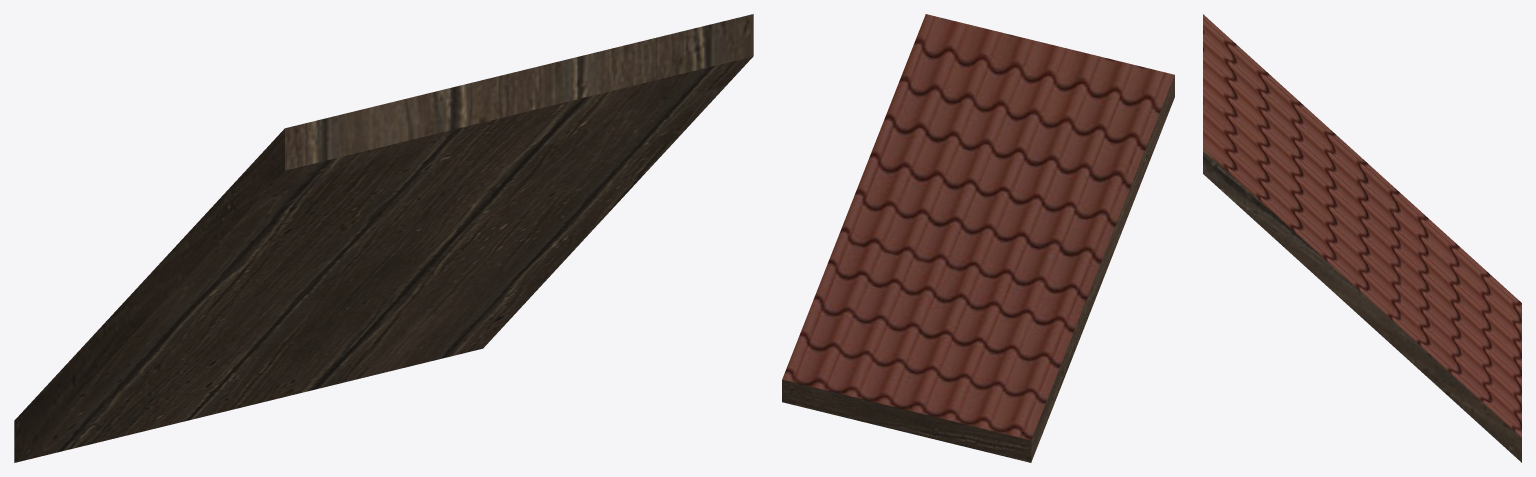
The model's file is ARC1010394.fbx.
3 views of the same model, side by side, from view 1: azimuth 30°, elevation 25°; view 2: azimuth 150°, elevation 25°; view 3: azimuth 270°, elevation 25° (orthographic). The views are drawn at different scales.
Visible parts, largest first — view 1: smARC1010394; view 2: smARC1010394; view 3: smARC1010394.
Part boxes in pixels (left/top/right/bottom): smARC1010394: left=14, top=14, right=753, bottom=462; smARC1010394: left=782, top=14, right=1174, bottom=462; smARC1010394: left=1203, top=14, right=1521, bottom=462.
Bounding box in the file's own units: 268 × 291 × 268.
Materials: 1 (1 with a texture image).
